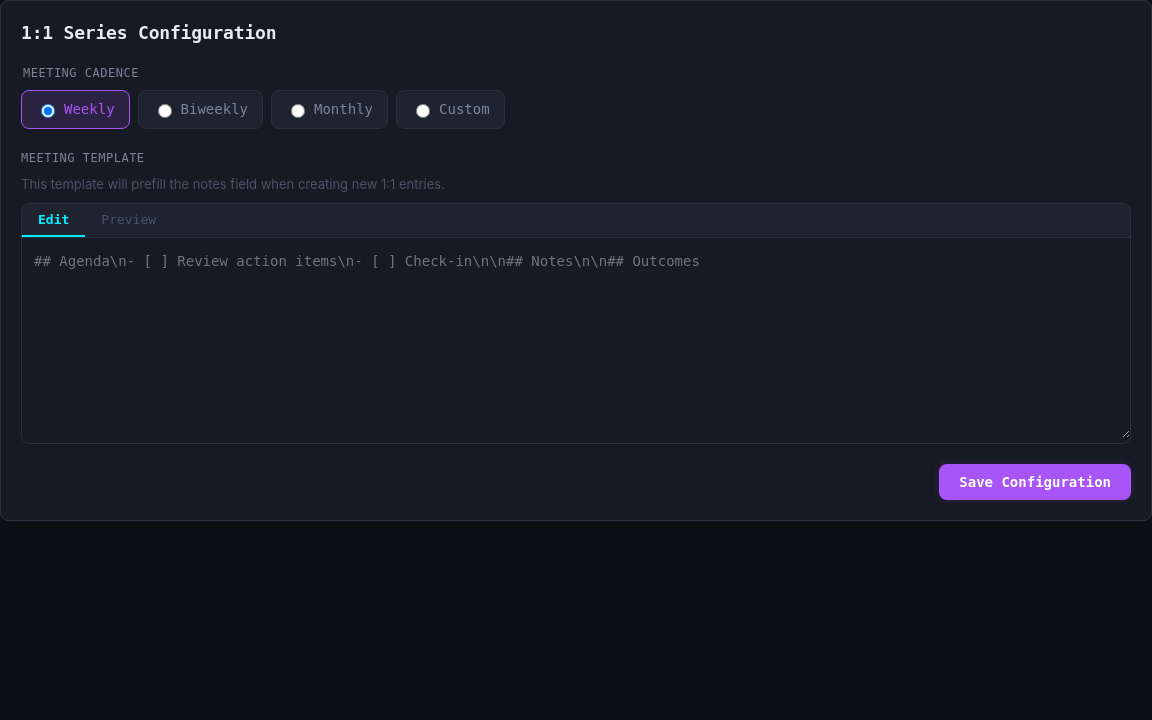
SeriesConfigPanel › hides custom interval input when switching from CUSTOM to another cadence
// Select CUSTOM
Step 1. Click the radio button with test id "cadence-option-custom" → (423, 111), box [416,104,430,118]
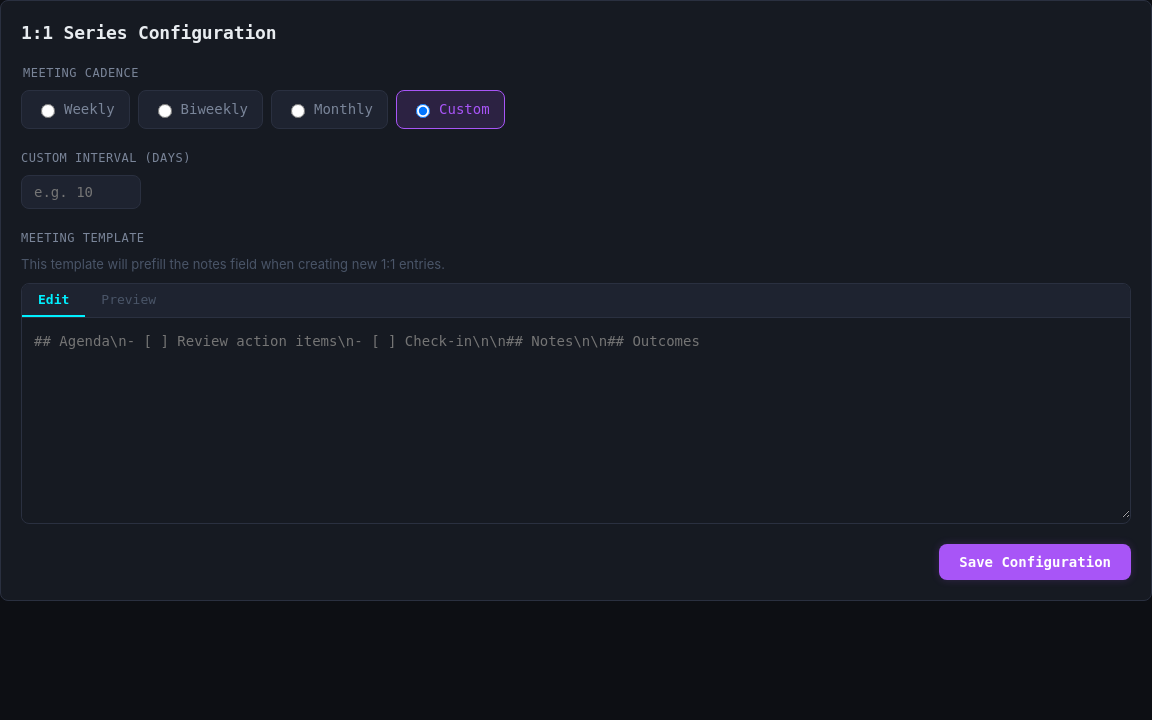
Check: the element with test id "custom-interval-section" is shown, box [21,151,191,209]
// Switch to WEEKLY
Step 2. Click the radio button with test id "cadence-option-weekly" → (48, 111), box [41,104,55,118]
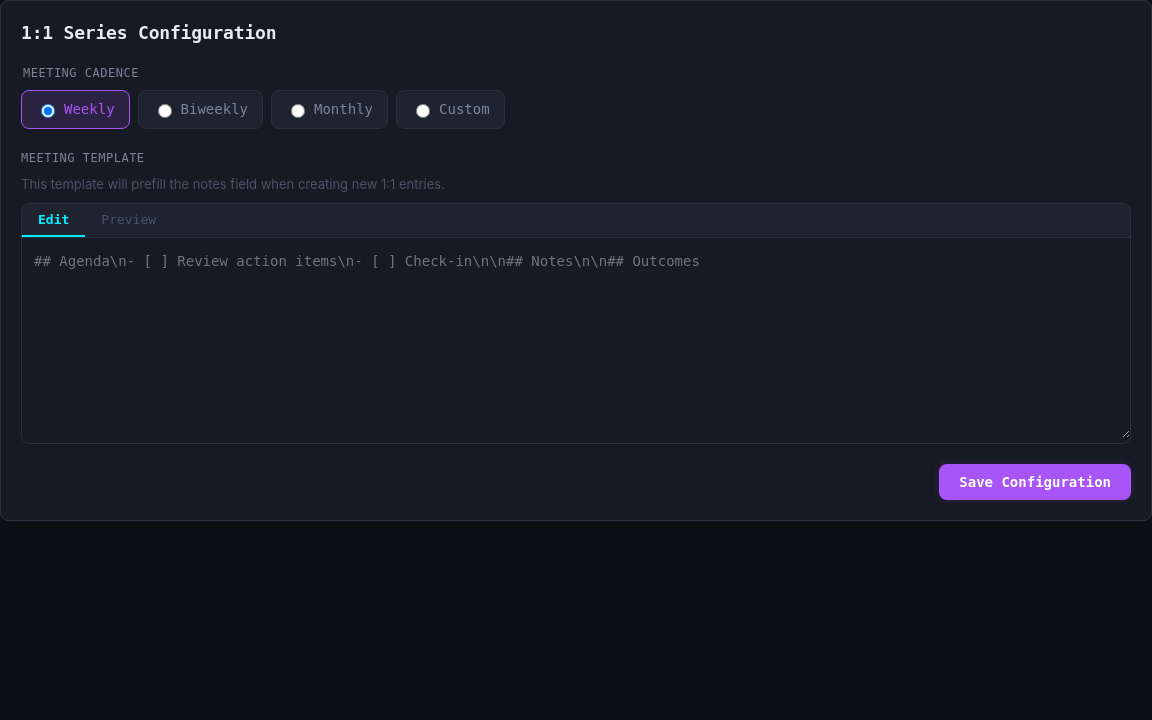
Check: the element with test id "custom-interval-section" is gone
